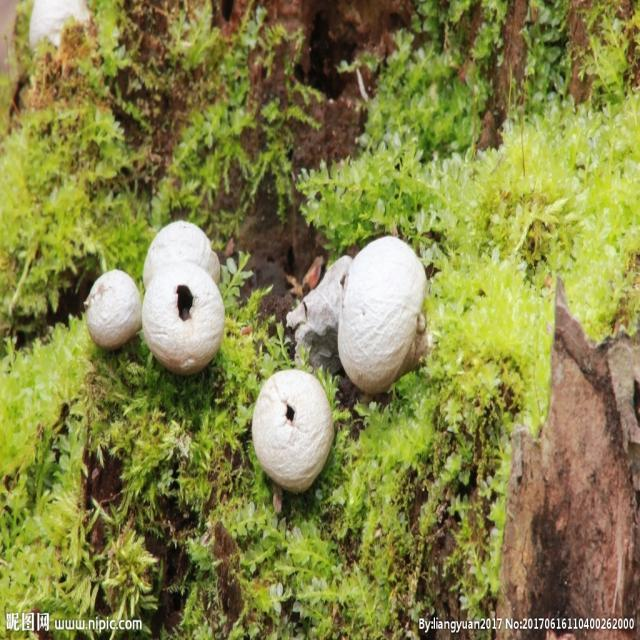Agaricus bisporus: (340, 232, 427, 393), (254, 367, 334, 487), (143, 259, 225, 372), (85, 269, 142, 345)
